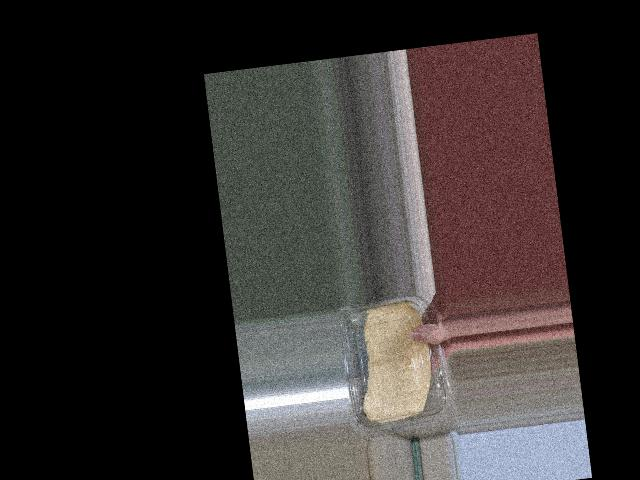cheese: (335, 293, 445, 439)
